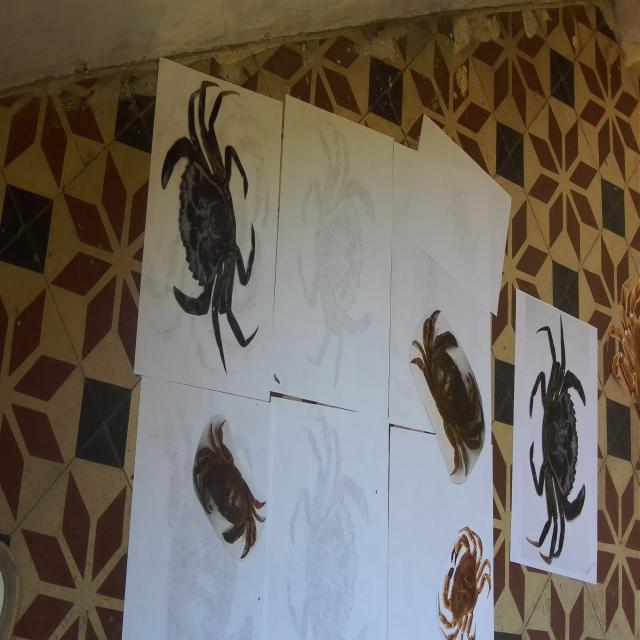European_Green_Crab: (152, 69, 268, 391), (525, 312, 590, 568)
